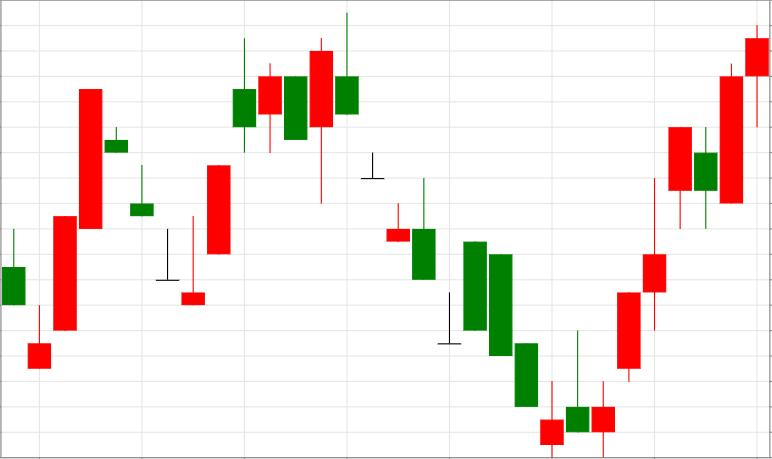hanging_man_fall: (591, 26, 770, 457)
inverse_hammer_rise: (411, 177, 563, 457)
